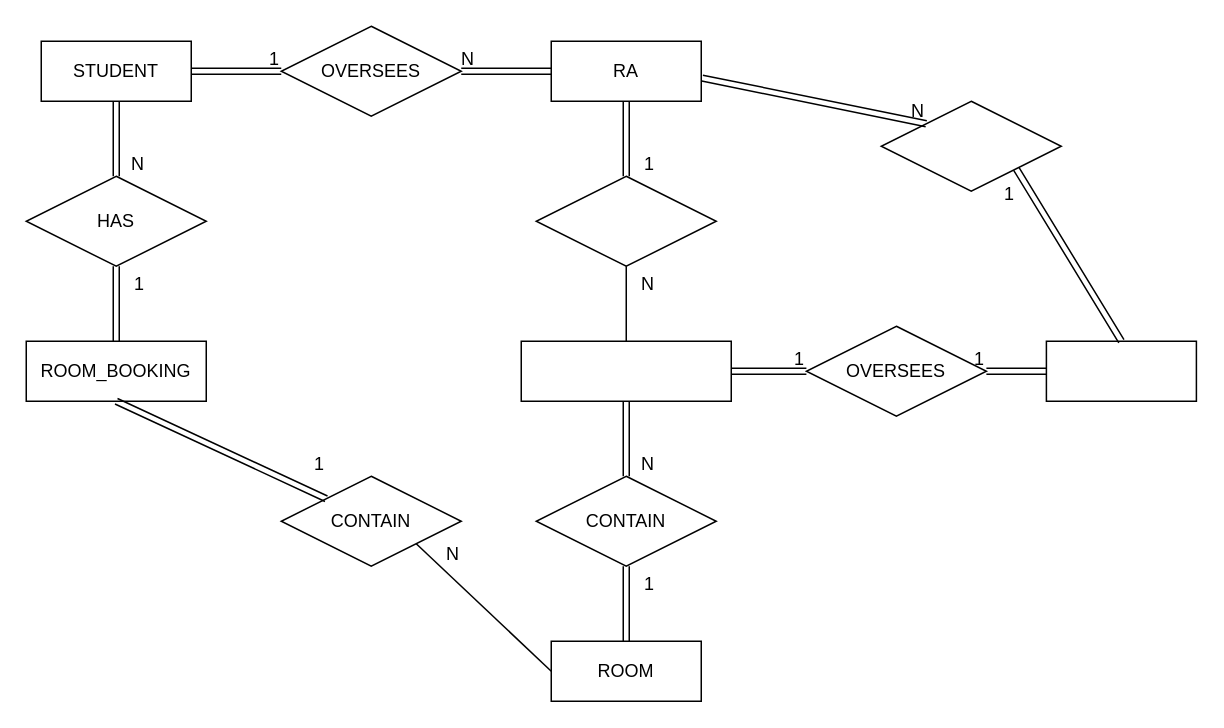
Image size: 1224x728. Some labels were removed from this diagram. The shapes that lost their labels are listed below. From the top down, each one's box as (x1, y1, x2, y2) in pixels, then its label:
(880, 100, 1061, 191): WORKS_FOR
(535, 175, 716, 266): WORKS_IN
(520, 340, 731, 401): RESIDENCE_HALL
(1045, 340, 1196, 401): HC
